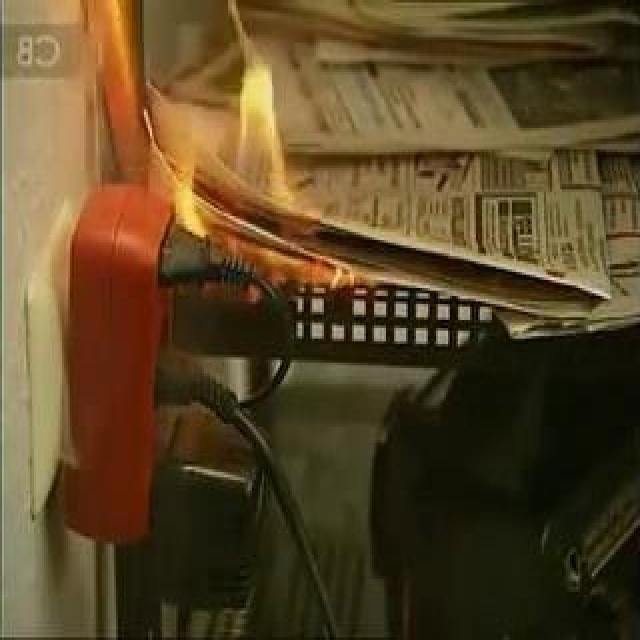Fire: (99, 0, 379, 299)
